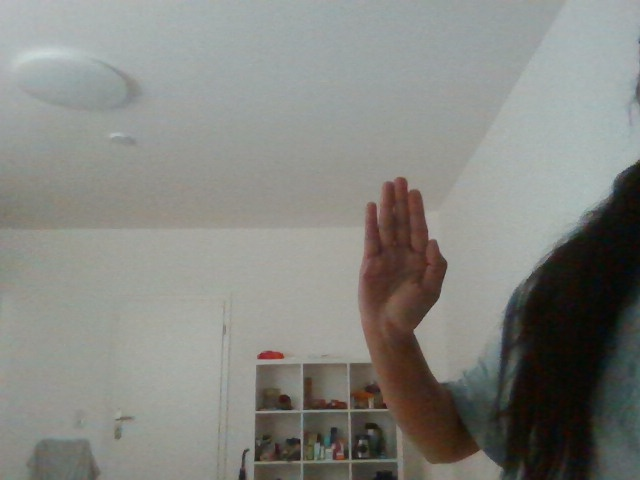Palm: (338, 171, 466, 342)
